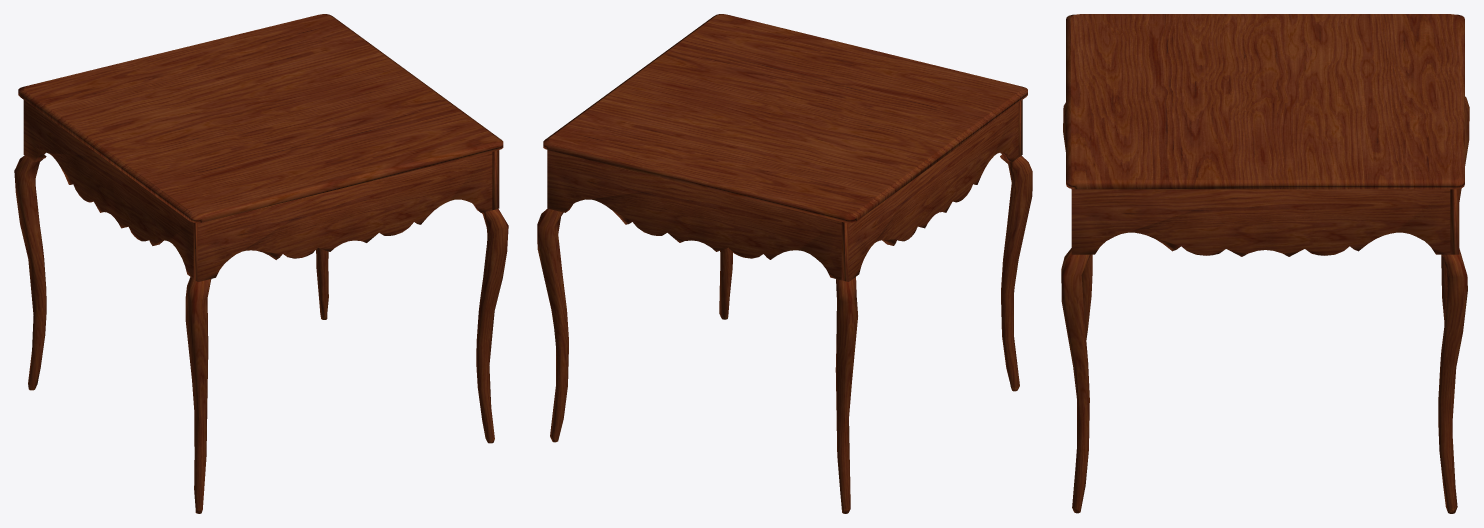
Rendered from ARC0510162.fbx.
3 views of the same model, side by side, from view 1: azimuth 30°, elevation 25°; view 2: azimuth 150°, elevation 25°; view 3: azimuth 270°, elevation 25° (orthographic). The views are drawn at different scales.
Visible parts, largest first — view 1: smARC0510162; view 2: smARC0510162; view 3: smARC0510162.
Part boxes in pixels (box(x1,y1,x2,y2)): smARC0510162: box(14, 14, 508, 513); smARC0510162: box(537, 14, 1032, 513); smARC0510162: box(1061, 14, 1469, 513).
Size of the model in its own units: 86.87 by 78.85 by 86.87.
Materials: 1 (1 with a texture image).
